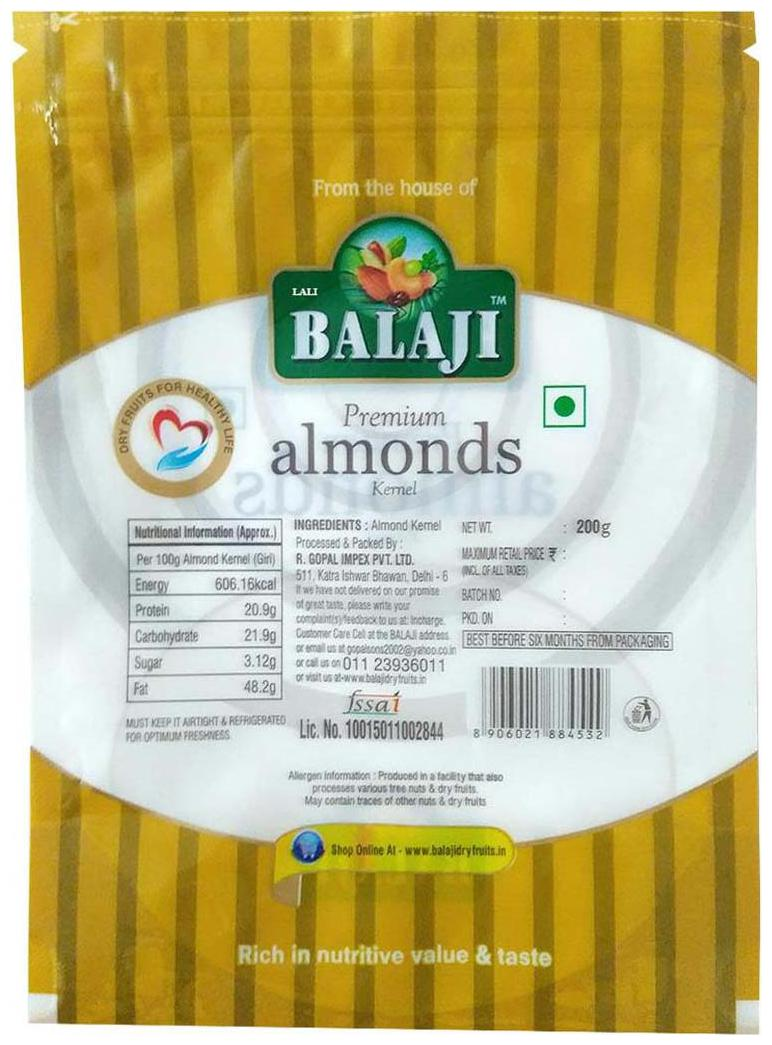fssai: (341, 688, 402, 715)
